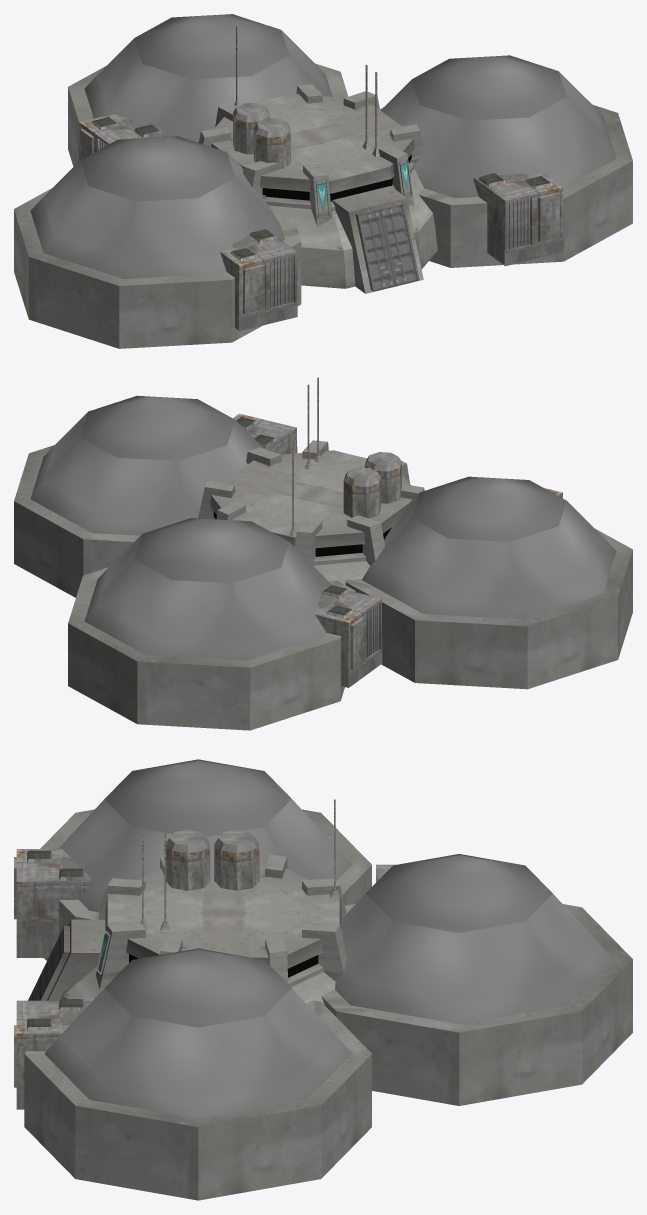
File: green_house.dae
The picture shows the model from 3 angles, top to bottom: view 1: azimuth 30°, elevation 25°; view 2: azimuth 150°, elevation 25°; view 3: azimuth 270°, elevation 25°; orthographic projection. The views are drawn at different scales.
Parts seen in each view (by area): view 1: tecnical_center; view 2: tecnical_center; view 3: tecnical_center.
Boxes of the visible parts, box(x1,y1,x2,y2) form: tecnical_center: box(14, 14, 632, 348); tecnical_center: box(14, 377, 632, 730); tecnical_center: box(14, 759, 632, 1200).
Size of the model in its own units: 42.38 by 33 by 12.77.
